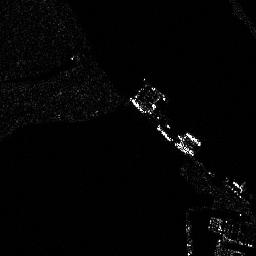ship: (185, 132, 202, 147)
